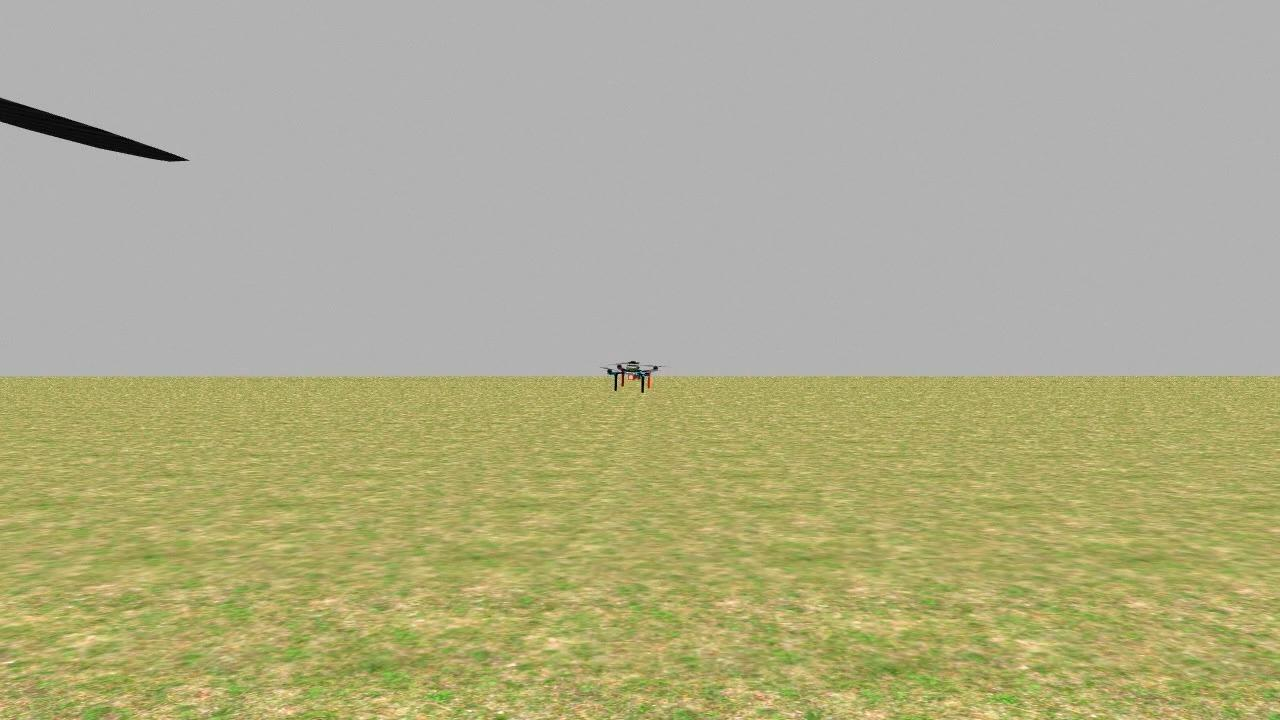UAV: (599, 351, 663, 399)
